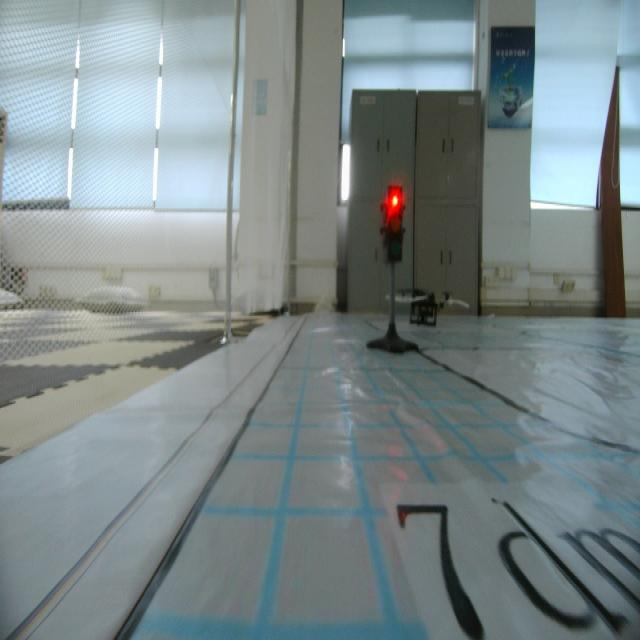red: (381, 181, 406, 267)
